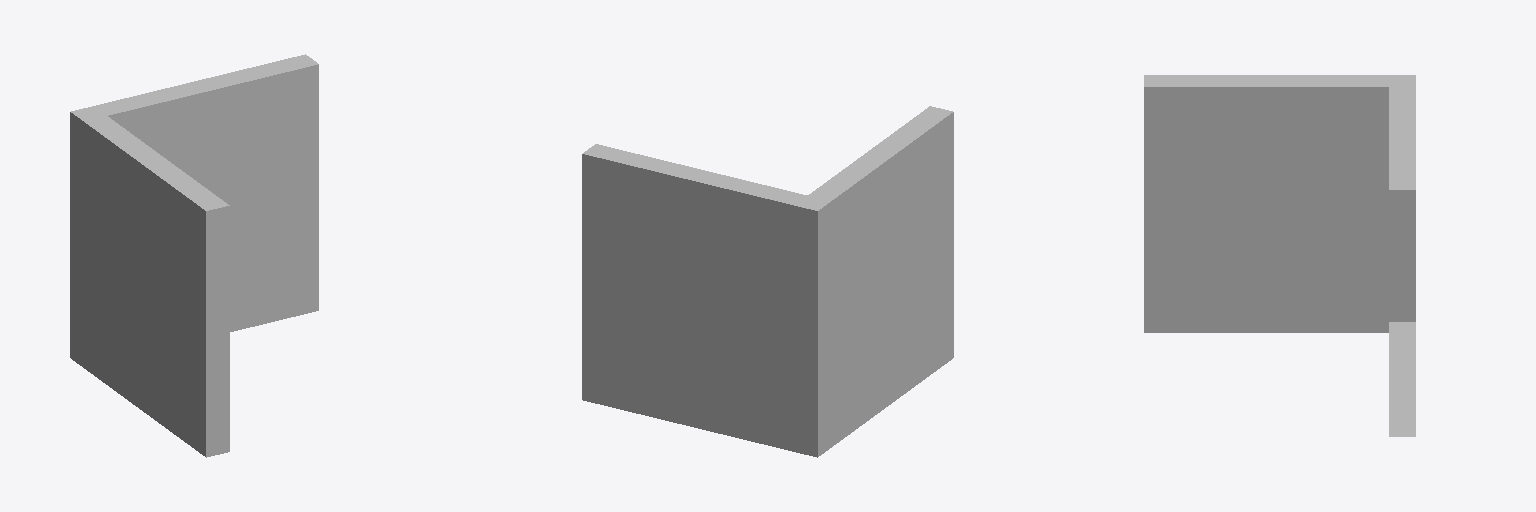
Rendered from tiles_wall_corner.obj.
3 renders of one model, left to right at view 1: azimuth 30°, elevation 25°; view 2: azimuth 150°, elevation 25°; view 3: azimuth 270°, elevation 25°, orthographic.
Visible parts, largest first — view 1: Wall_Corner_Cube.017; view 2: Wall_Corner_Cube.017; view 3: Wall_Corner_Cube.017.
Boxes of the visible parts, x1,y1,x2,y2 form: Wall_Corner_Cube.017: [70, 54, 318, 457]; Wall_Corner_Cube.017: [582, 106, 953, 457]; Wall_Corner_Cube.017: [1144, 75, 1415, 436].
Size of the model in its own units: 2 by 2 by 2.